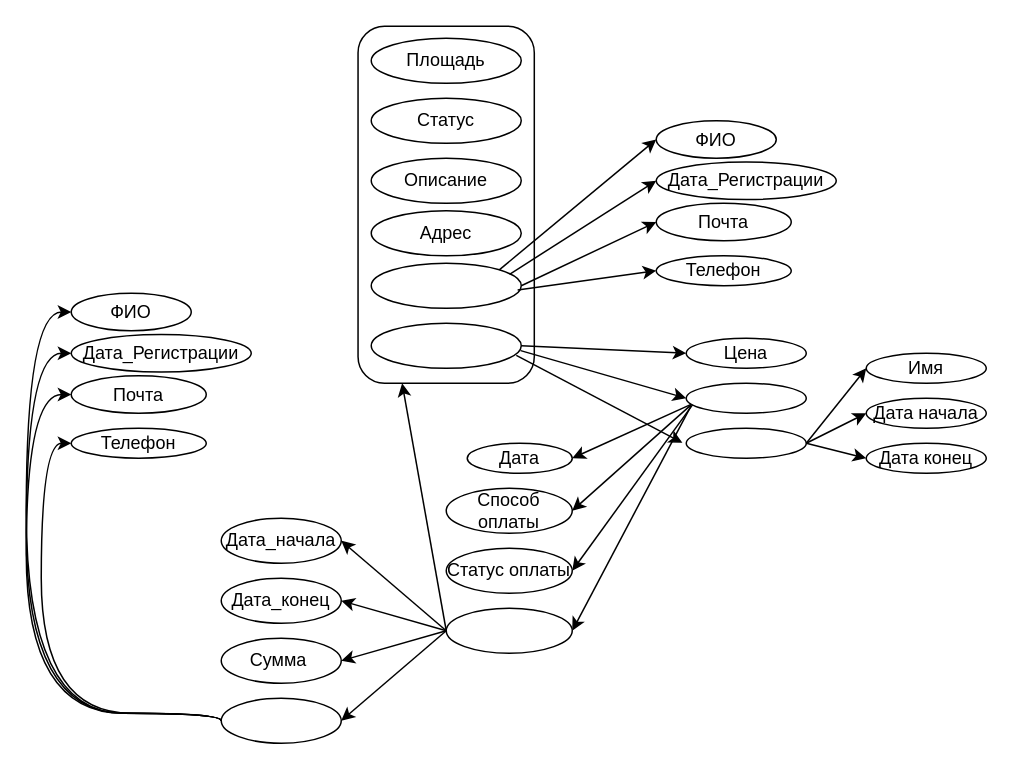
This 1013x770 diagram has some shape labels left out. Here are the shapes that lost their labels. From the top down, the box of each, then its label:
(370, 262, 521, 308): Арендодатель
(370, 322, 521, 368): СТР_П
(685, 382, 806, 413): Кад.Номер
(685, 427, 806, 458): Прейскурант
(445, 607, 572, 653): Номер договора
(220, 697, 341, 743): Арендатор
